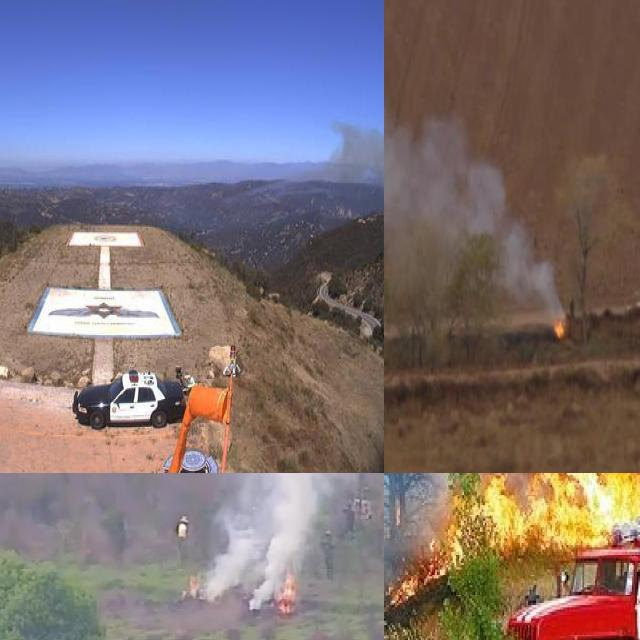fire: (384, 473, 640, 609), (551, 308, 567, 344)
smoke: (384, 0, 568, 317), (197, 473, 384, 609), (309, 112, 384, 218)
